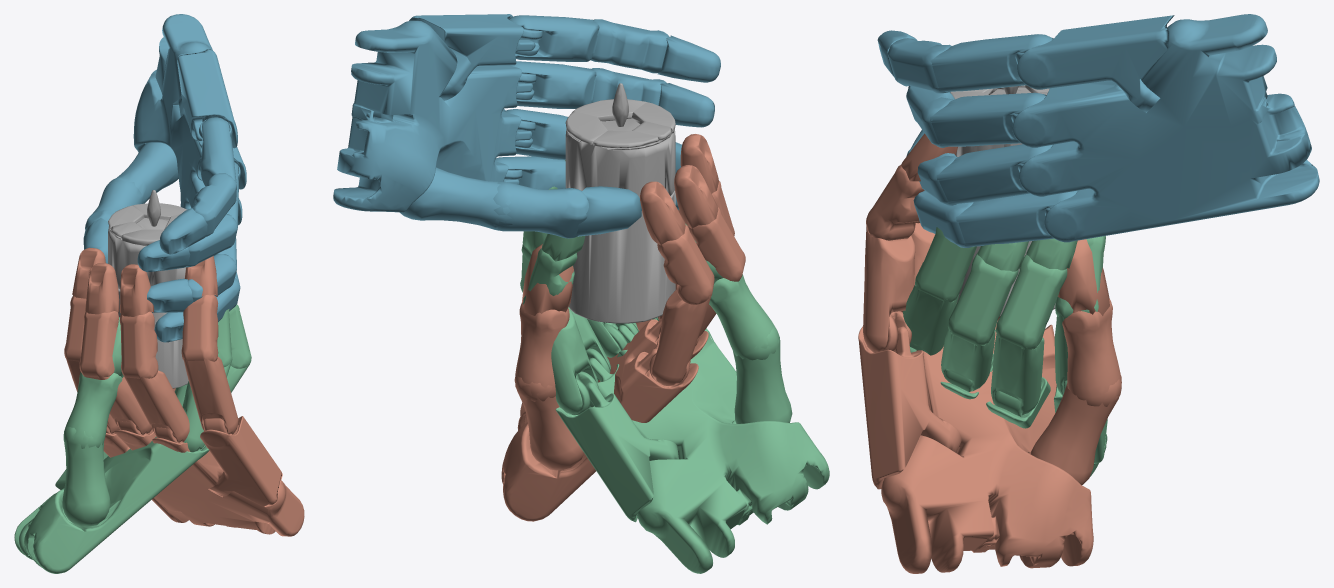
3 views of the same model, side by side, from view 1: azimuth 30°, elevation 25°; view 2: azimuth 150°, elevation 25°; view 3: azimuth 270°, elevation 25° (orthographic). The views are drawn at different scales.
Bounding box in the file's own units: 0.1719 × 0.2621 × 0.1852.
